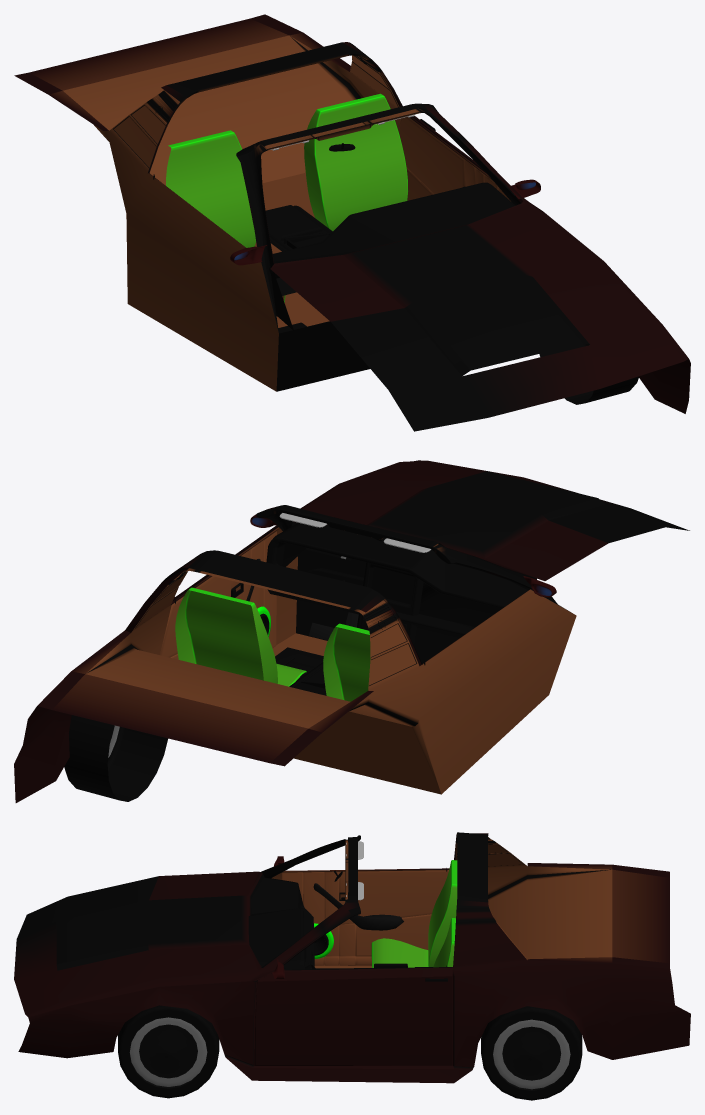
Rendered from CarGroup.fbx.
The picture shows the model from 3 angles, top to bottom: view 1: azimuth 30°, elevation 25°; view 2: azimuth 150°, elevation 25°; view 3: azimuth 270°, elevation 25°; orthographic projection. The views are drawn at different scales.
Visible parts, largest first — view 1: body, interior, wheels; view 2: body, interior, wheels; view 3: body, interior, wheels.
Part boxes in pixels (box(x1,y1,x2,y2)): body: box(14, 14, 690, 431); interior: box(150, 93, 540, 330); wheels: box(539, 343, 638, 404); body: box(14, 460, 689, 802); interior: box(160, 514, 557, 701); wheels: box(64, 547, 366, 801); body: box(14, 832, 690, 1083); interior: box(248, 856, 457, 979); wheels: box(118, 1005, 582, 1100).
Size of the model in its own units: 202 by 139 by 479.
